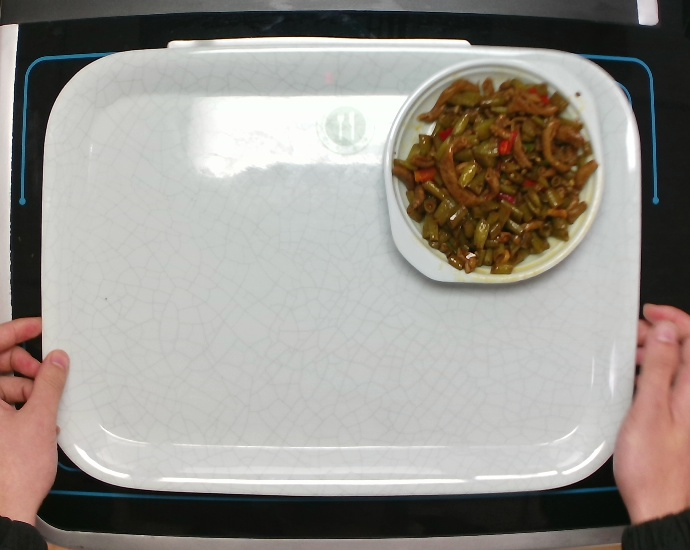JYsf-Shuang_Er_Pan: (381, 59, 601, 290)
